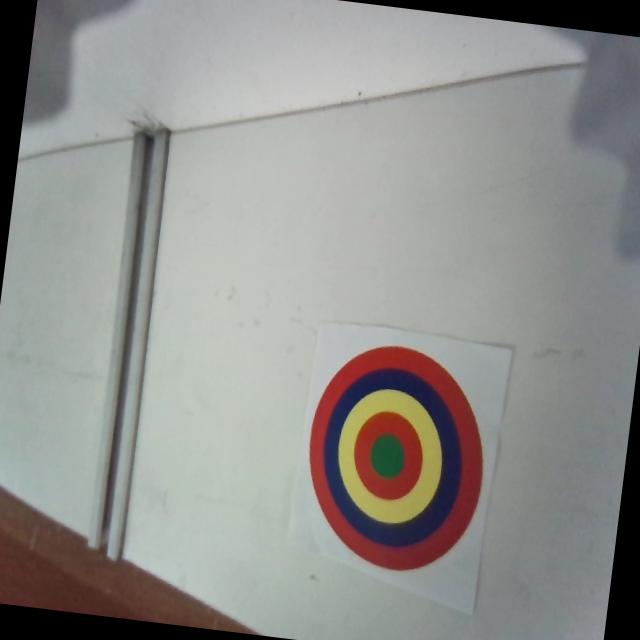cogn: (295, 334, 497, 580)
